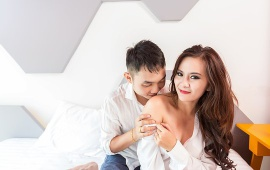female: (170, 42, 224, 112)
male: (123, 50, 169, 99)
